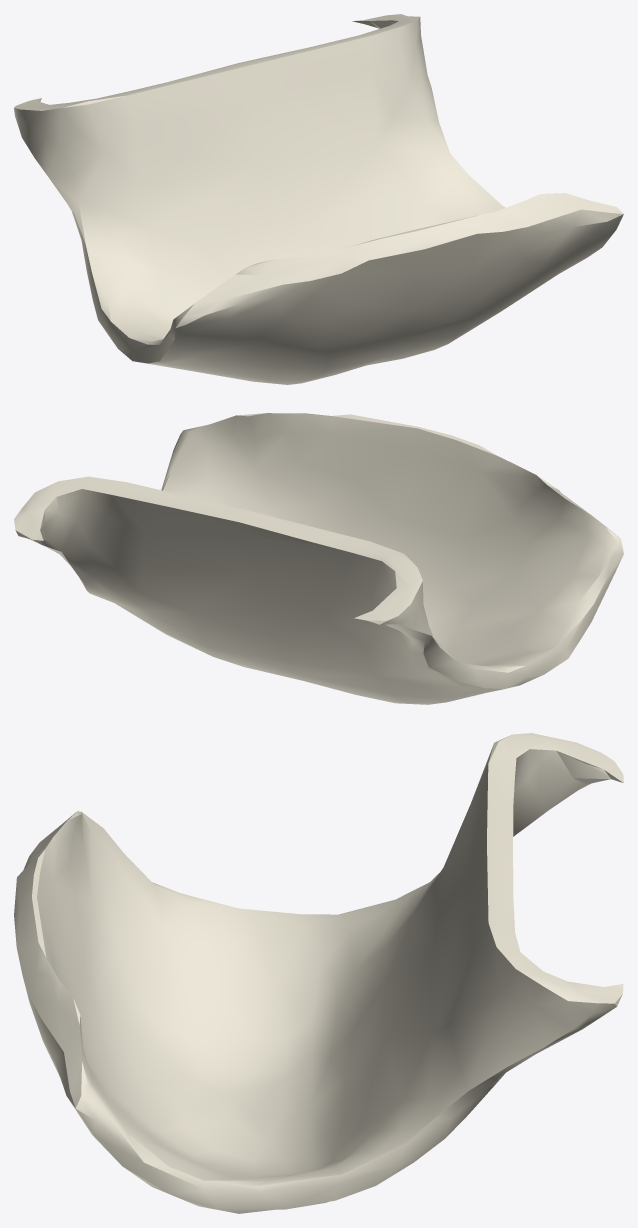
The model's file is fma54720_mm2117.glb.
The picture shows the model from 3 angles, top to bottom: view 1: azimuth 30°, elevation 25°; view 2: azimuth 150°, elevation 25°; view 3: azimuth 270°, elevation 25°; orthographic projection. The views are drawn at different scales.
Visible parts, largest first — view 1: FMA54720_MM2117; view 2: FMA54720_MM2117; view 3: FMA54720_MM2117.
Boxes of the visible parts, x1,y1,x2,y2 form: FMA54720_MM2117: [14, 14, 623, 384]; FMA54720_MM2117: [14, 413, 623, 704]; FMA54720_MM2117: [14, 733, 623, 1213].
Bounding box in the file's own units: 0.0165 × 0.0081 × 0.0146.
